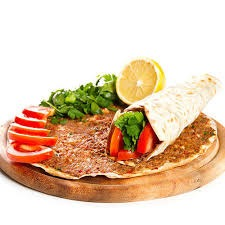lahmacun: (1, 74, 218, 179)
